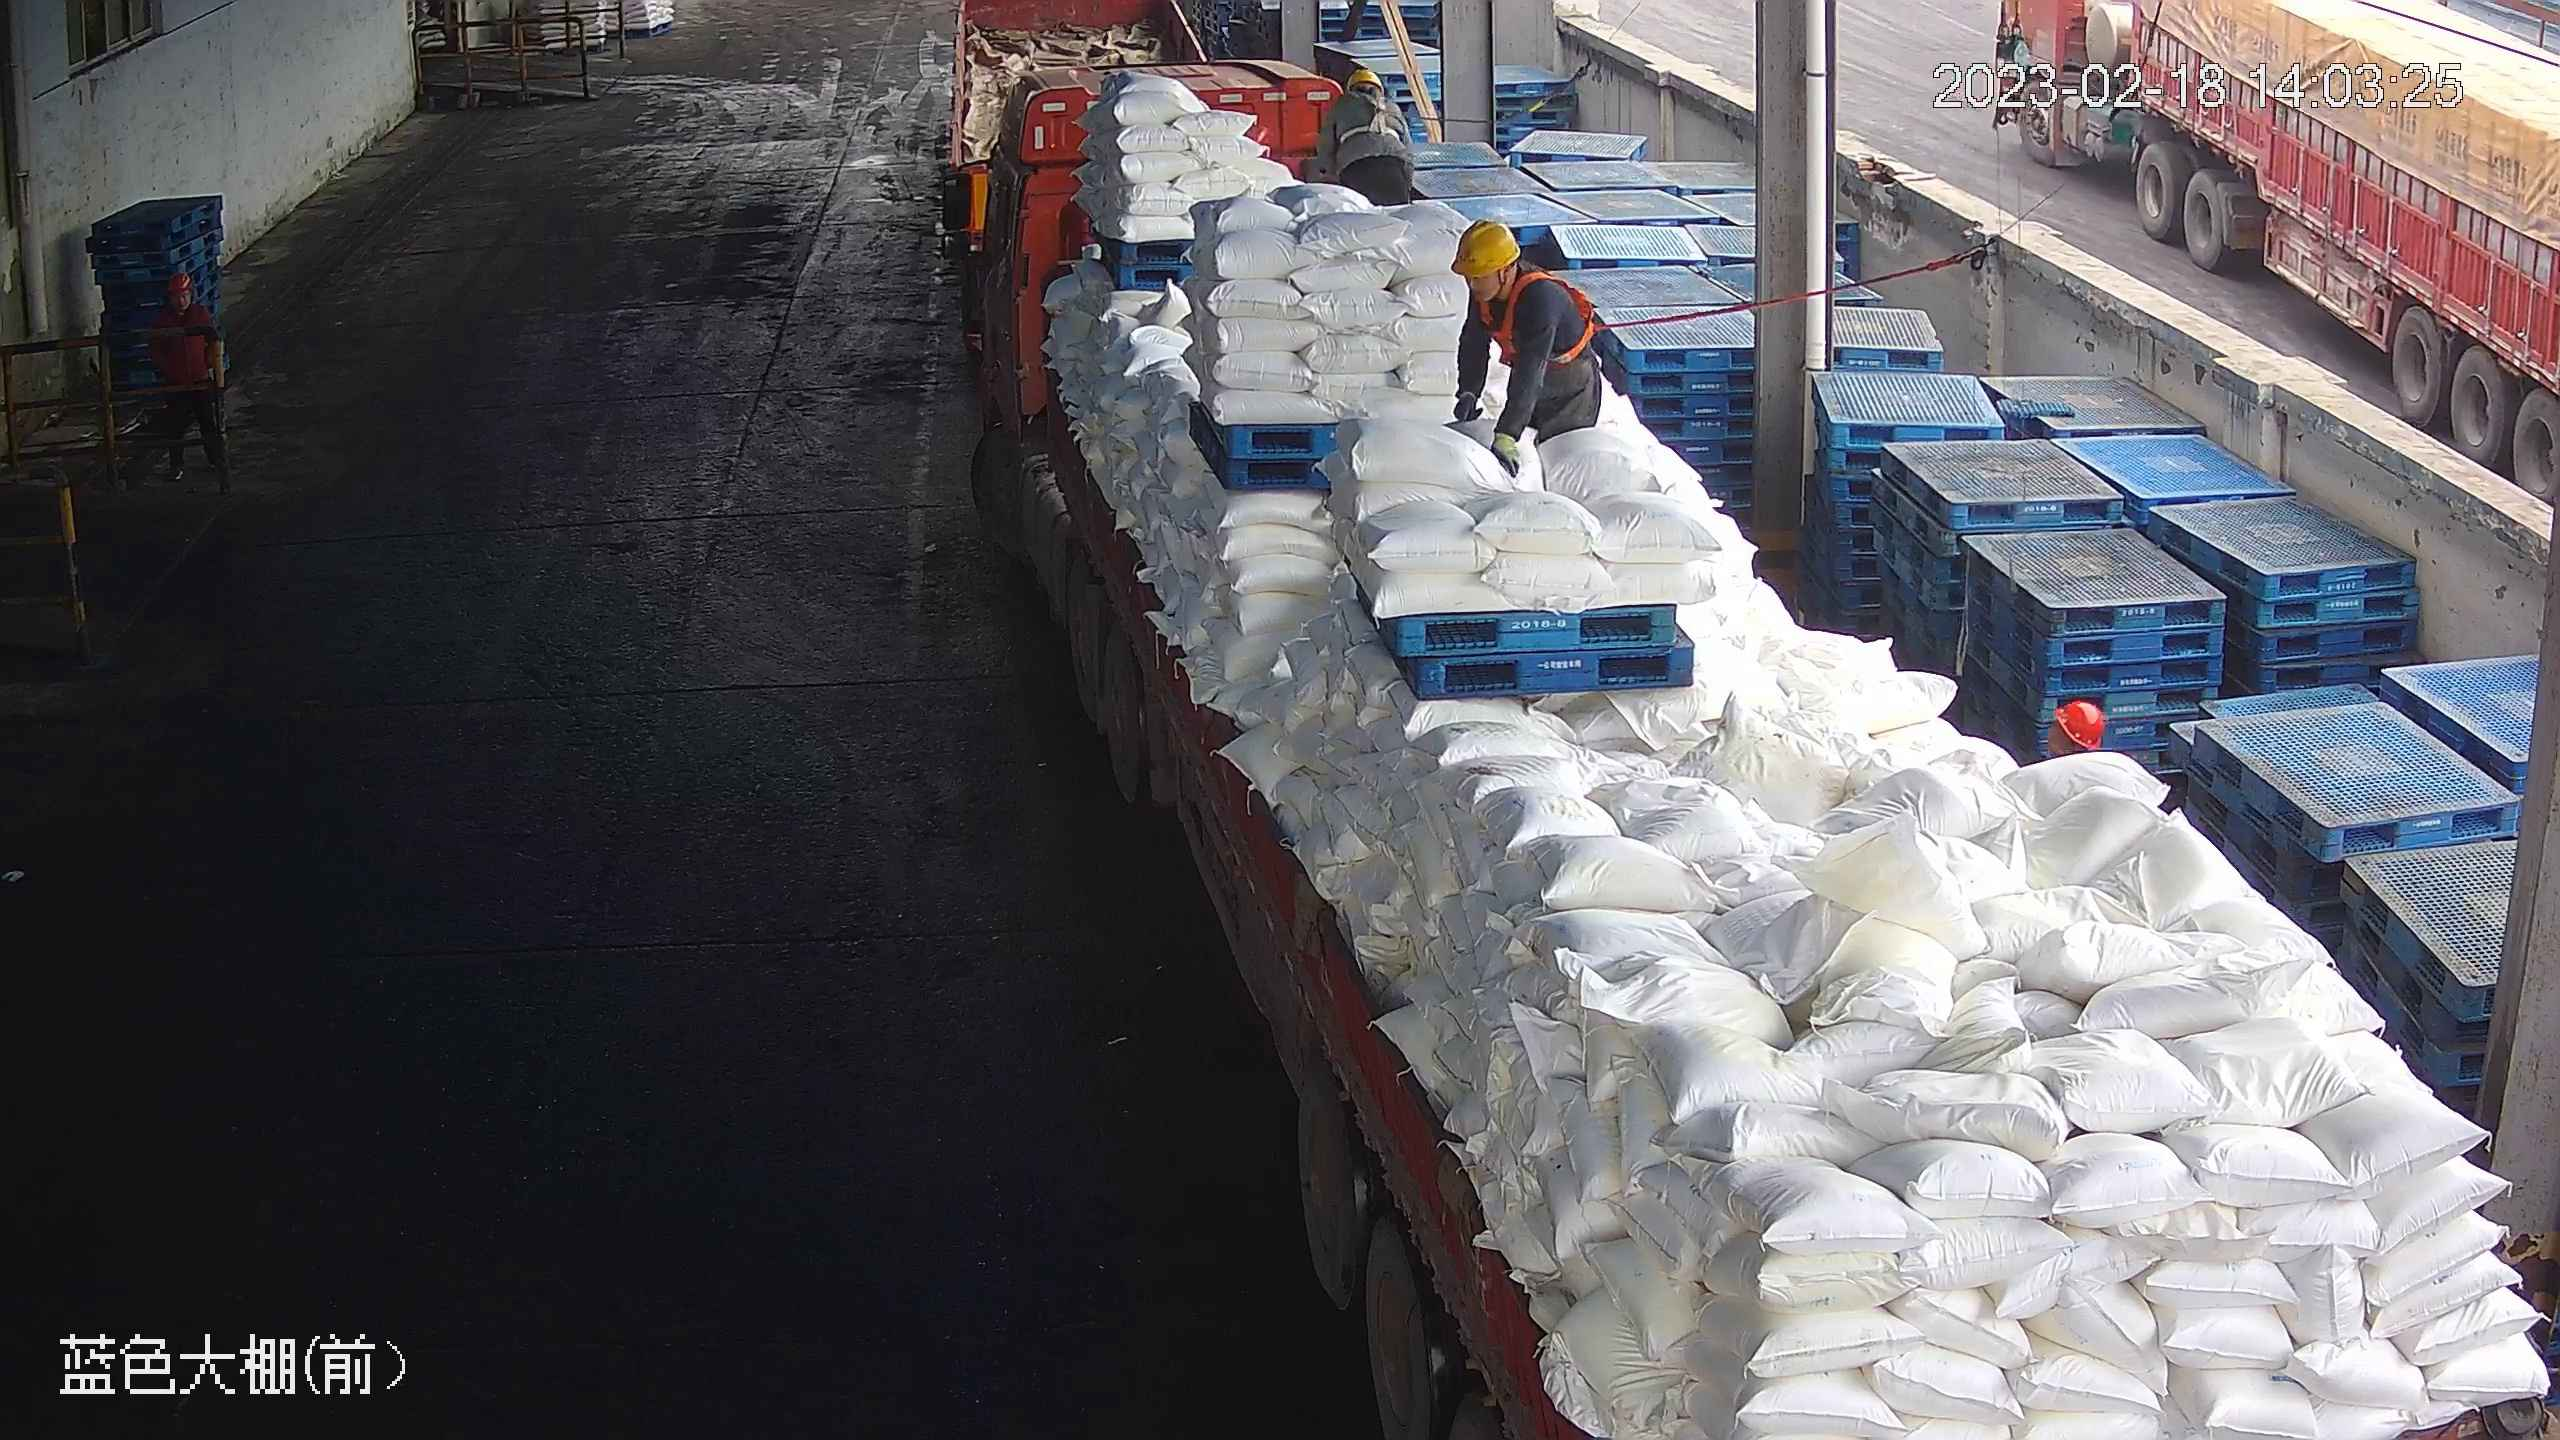belt: (1448, 217, 1605, 470), (1485, 268, 1606, 367)
head: (1450, 218, 1572, 324), (1323, 63, 1413, 127)
helmet: (1451, 216, 1521, 277), (2047, 697, 2106, 754), (1344, 64, 1383, 93)
people: (1447, 218, 1606, 472), (1315, 63, 1419, 203)
truck: (966, 138, 2556, 1436), (938, 5, 1224, 183)
